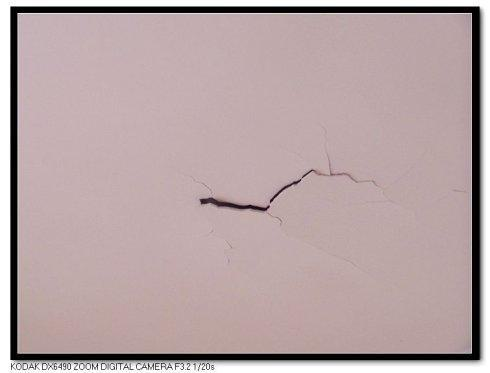Crack: (198, 168, 381, 213)
